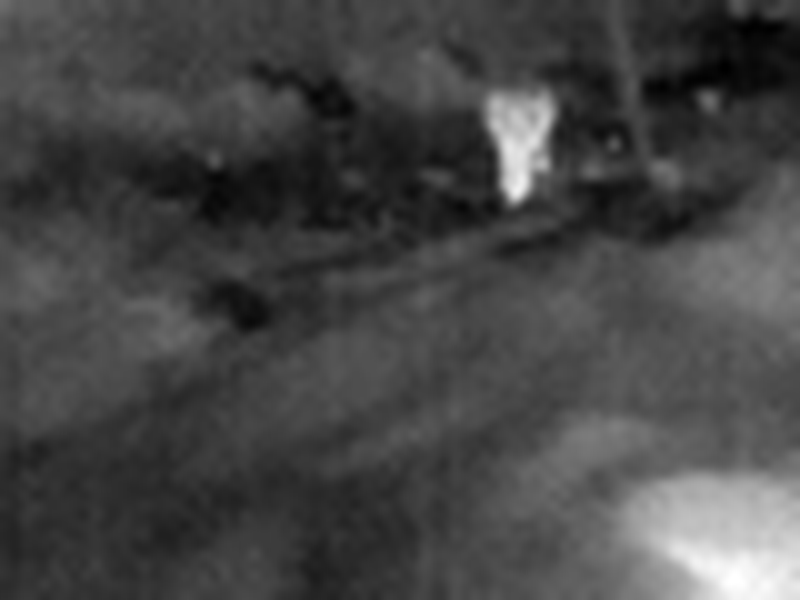elephant: (474, 74, 586, 243)
